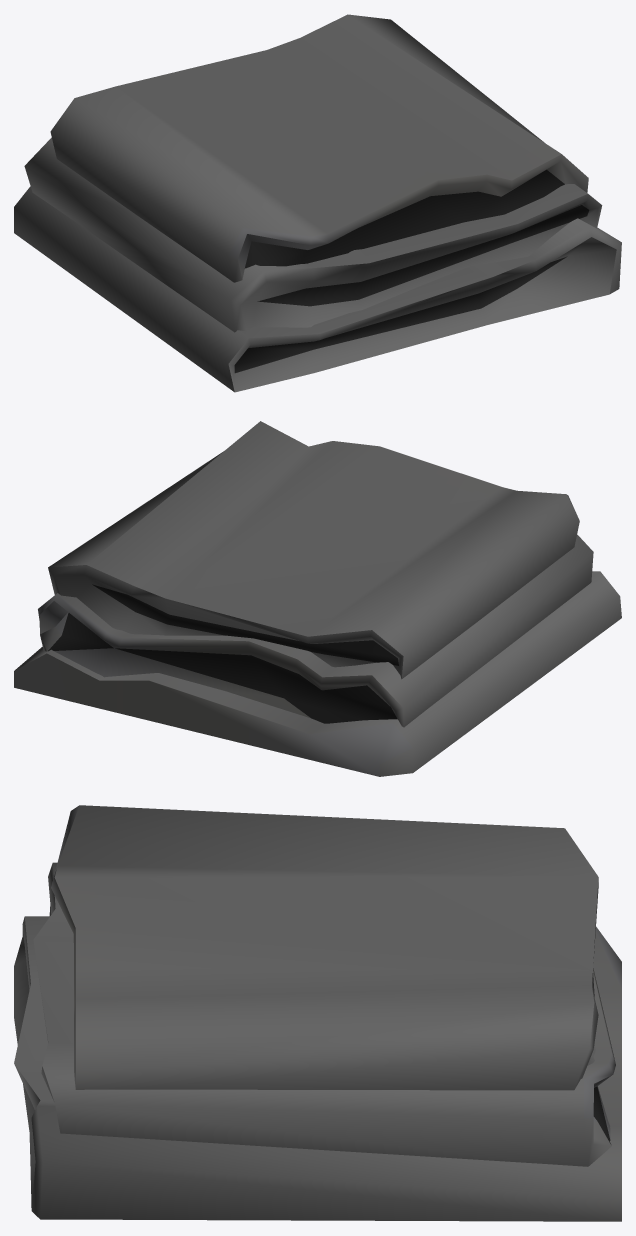
The model's file is clothes_002.glb.
3 renders of one model, top to bottom at view 1: azimuth 30°, elevation 25°; view 2: azimuth 150°, elevation 25°; view 3: azimuth 270°, elevation 25°, orthographic. The views are drawn at different scales.
Parts seen in each view (by area): view 1: clothes_002; view 2: clothes_002; view 3: clothes_002.
Part boxes in pixels (x1,y1,x2,y2): clothes_002: (14, 14, 621, 392); clothes_002: (14, 421, 621, 776); clothes_002: (14, 805, 621, 1221).
Bounding box in the file's own units: 0.383 × 0.1276 × 0.383.
Materials: 1 (1 with a texture image).
